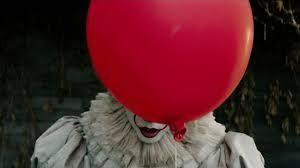red: (88, 0, 254, 127)
